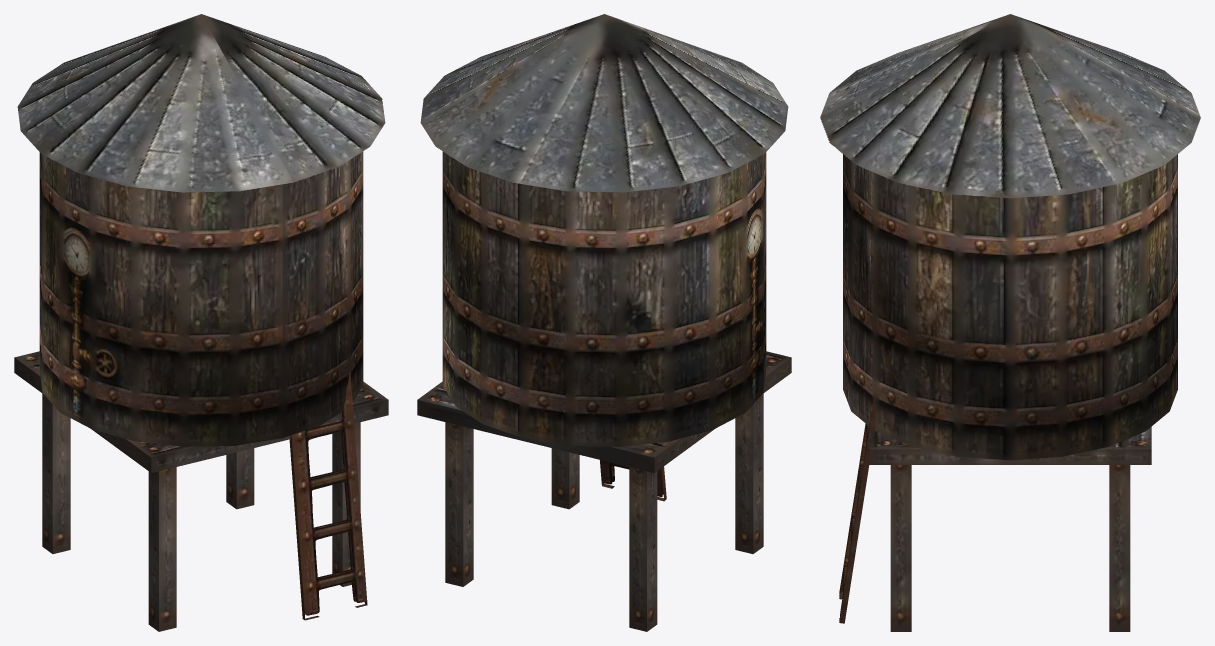
The model's file is water_tower.glb.
3 renders of one model, left to right at view 1: azimuth 30°, elevation 25°; view 2: azimuth 150°, elevation 25°; view 3: azimuth 270°, elevation 25°, orthographic. The views are drawn at different scales.
Visible parts, largest first — view 1: GEO-water_tower; view 2: GEO-water_tower; view 3: GEO-water_tower.
Part boxes in pixels (left/top/right/bottom): GEO-water_tower: left=14, top=14, right=388, bottom=631; GEO-water_tower: left=417, top=14, right=791, bottom=631; GEO-water_tower: left=820, top=14, right=1200, bottom=631.
Bounding box in the file's own units: 2.16 × 3.55 × 2.16.
1 material, 1 textured.
